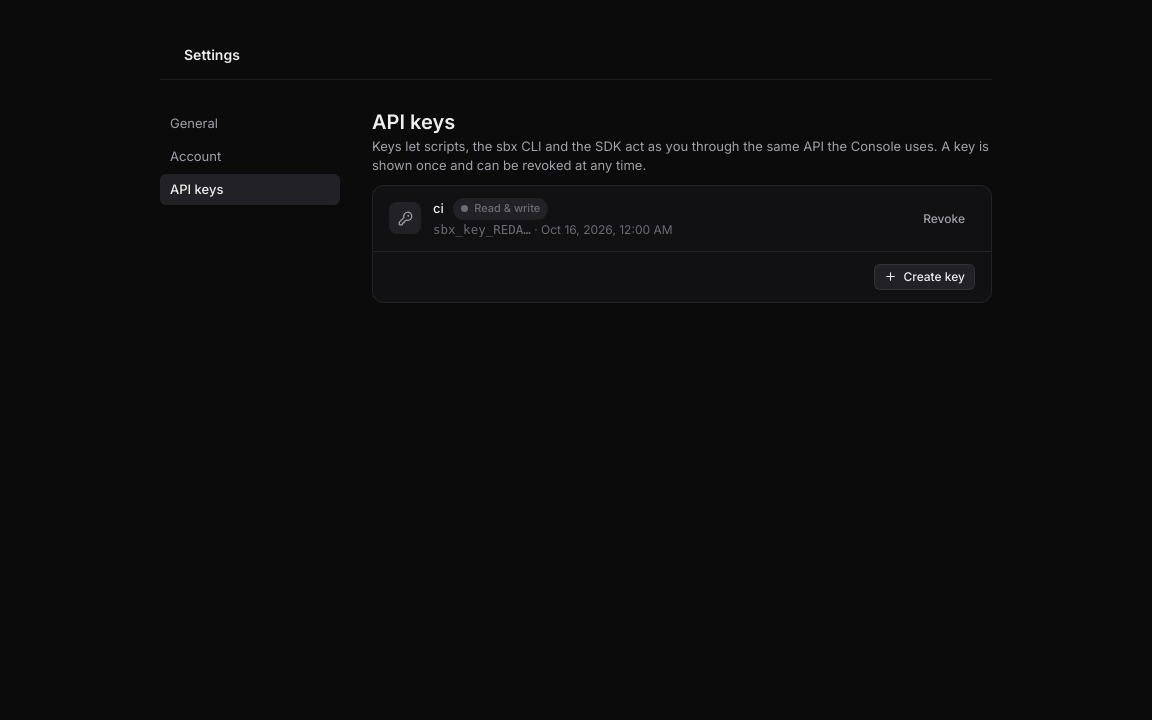
API key scopes and retry-safe issuance (#230) › offers revoke-and-reissue when an earlier attempt's secret is gone
This screenshot has width=1152, height=720.
Click the button "Create key": click(925, 277) [874, 264, 975, 290]
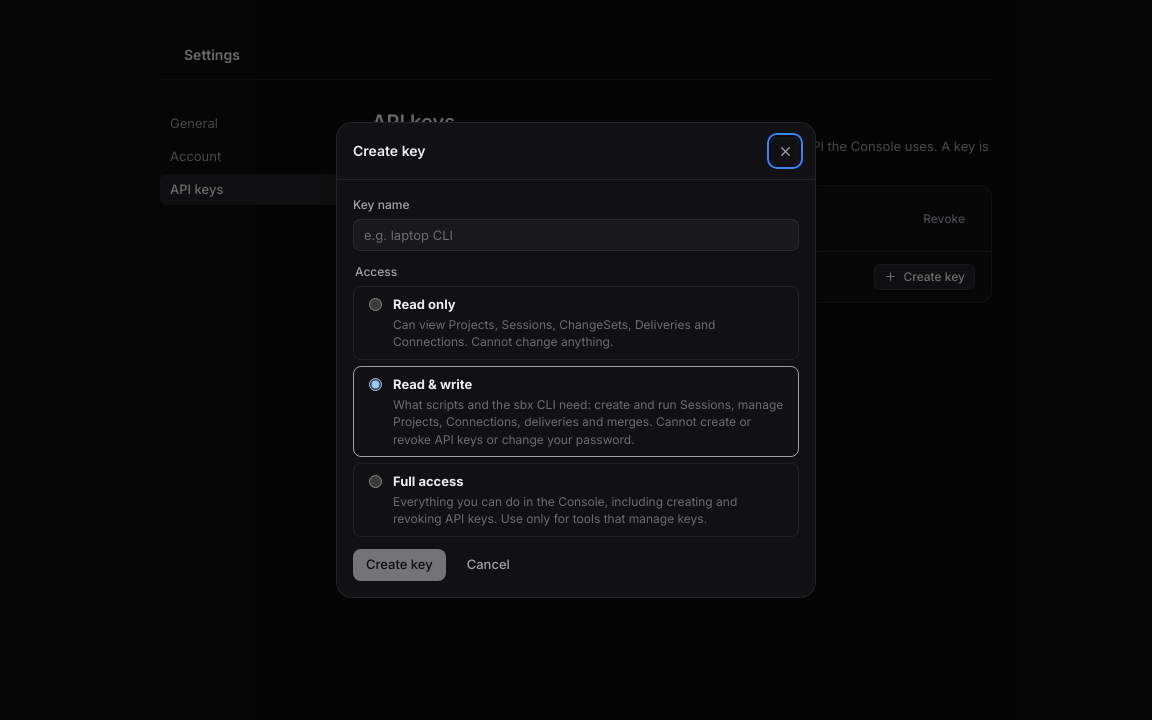
In the field labelled "Key name": (576, 235) [353, 219, 799, 251], type "ci"
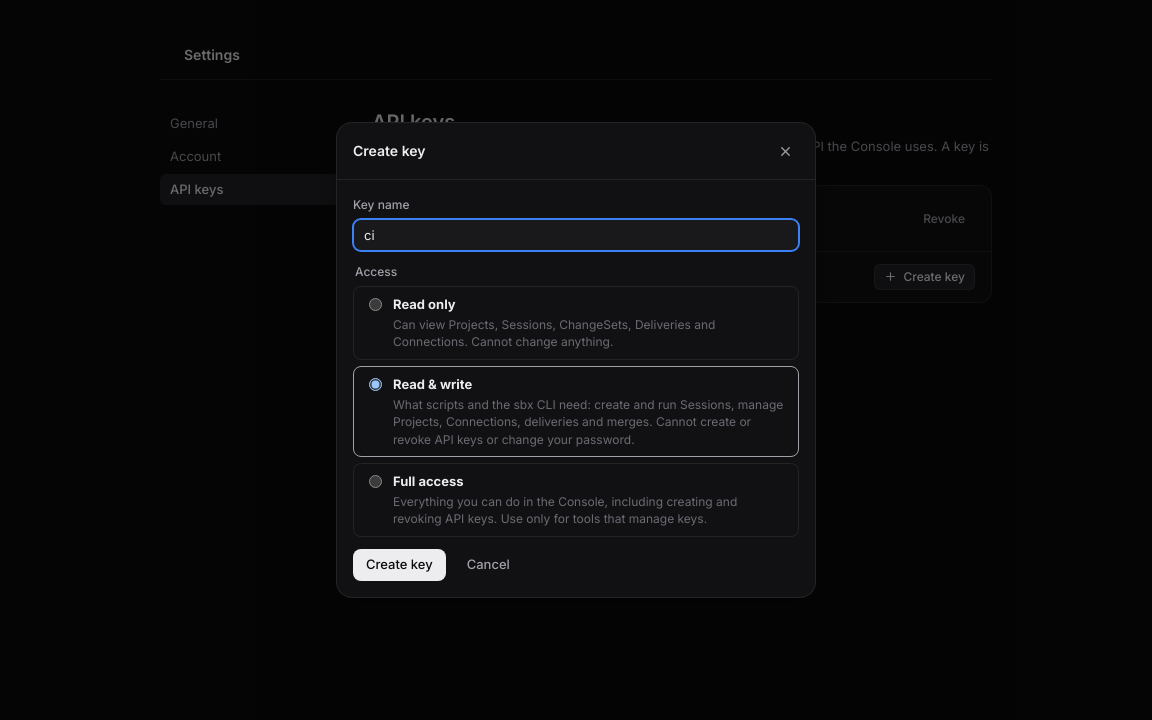
Click the button "Create key": click(399, 564) [353, 548, 446, 580]
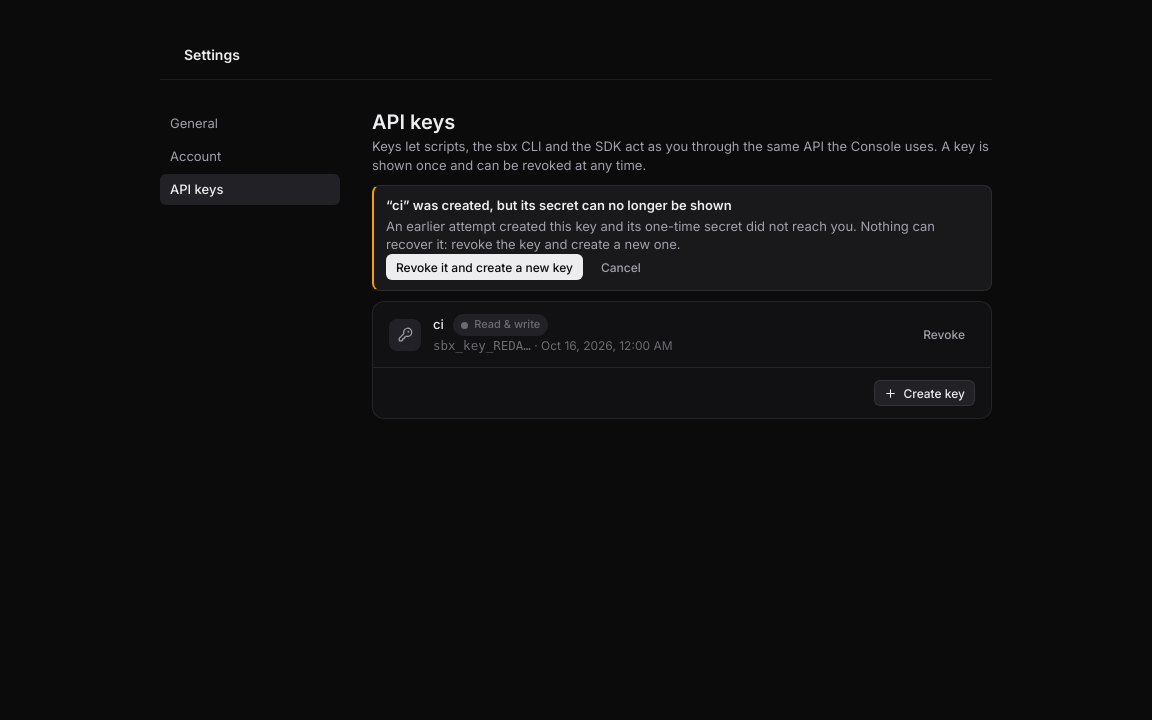
Expected: the message with test id "key-orphan" shows "“ci” was created, but its secret can no longer be shown", [386, 197, 732, 213]
Click the button "Revoke it and create a new key": click(484, 267) [386, 254, 583, 280]
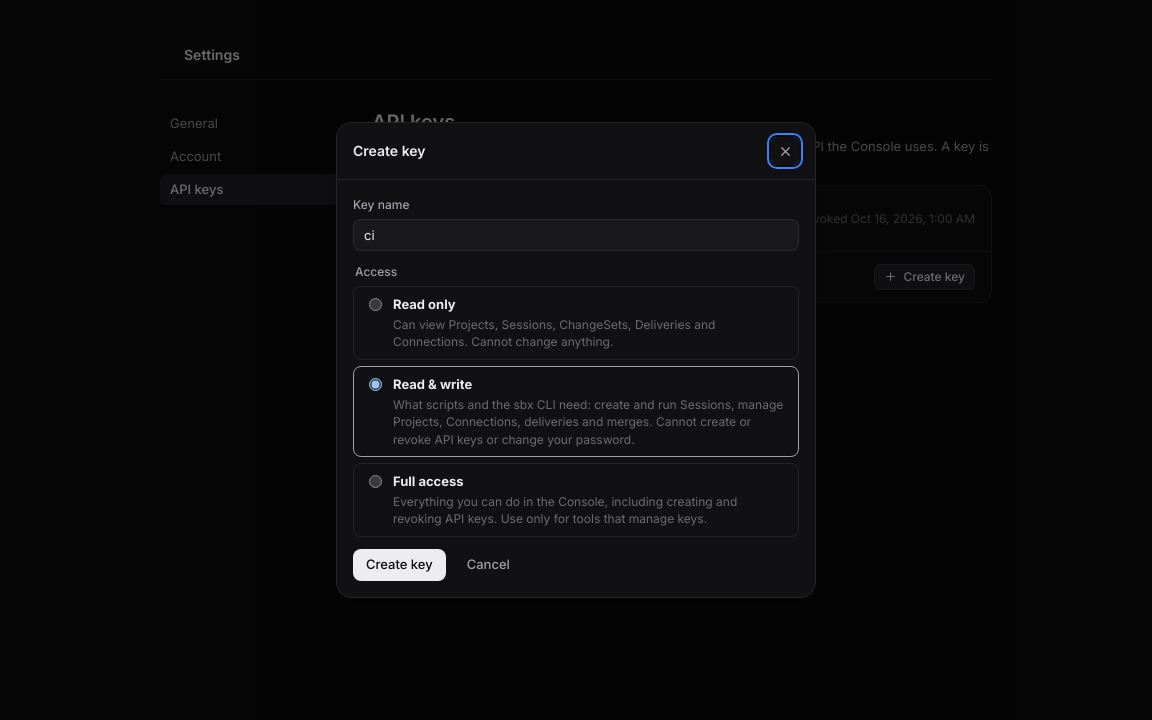
Expected: the field labelled "Key name" holds "ci", [353, 219, 799, 251]
Click the button "Create key": click(399, 564) [353, 548, 446, 580]
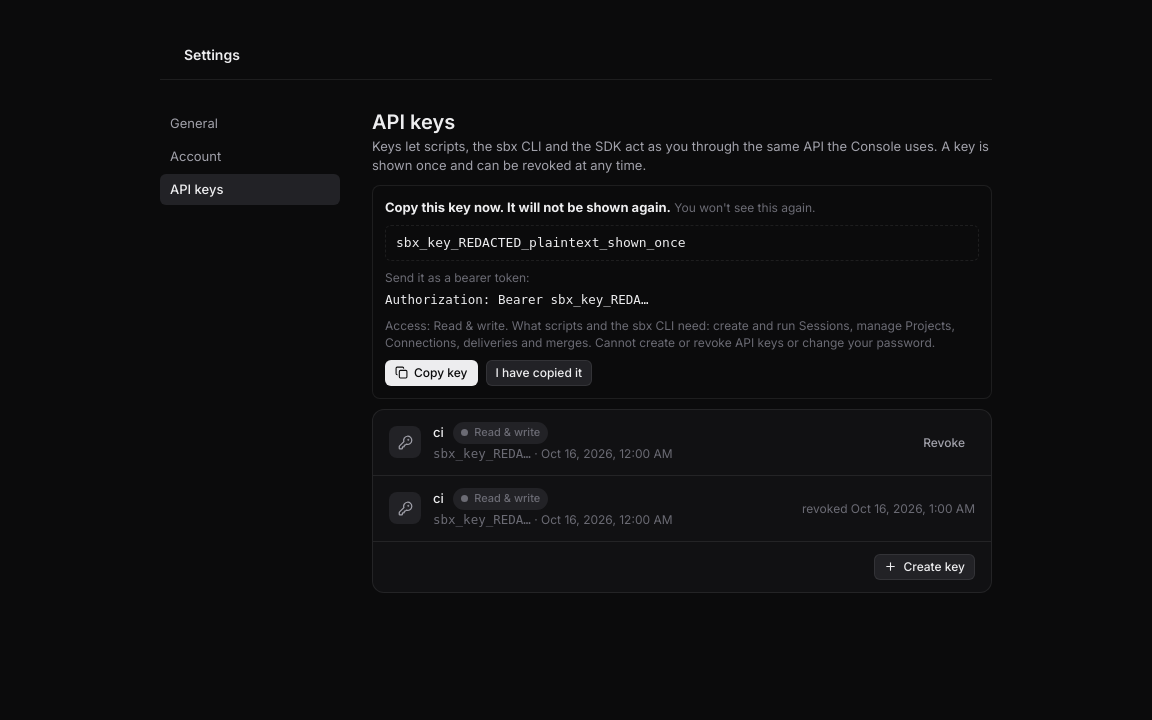
Expected: the message with test id "key-reveal" shows "sbx_key_REDACTED_plaintext_shown_once", [396, 234, 686, 250]
